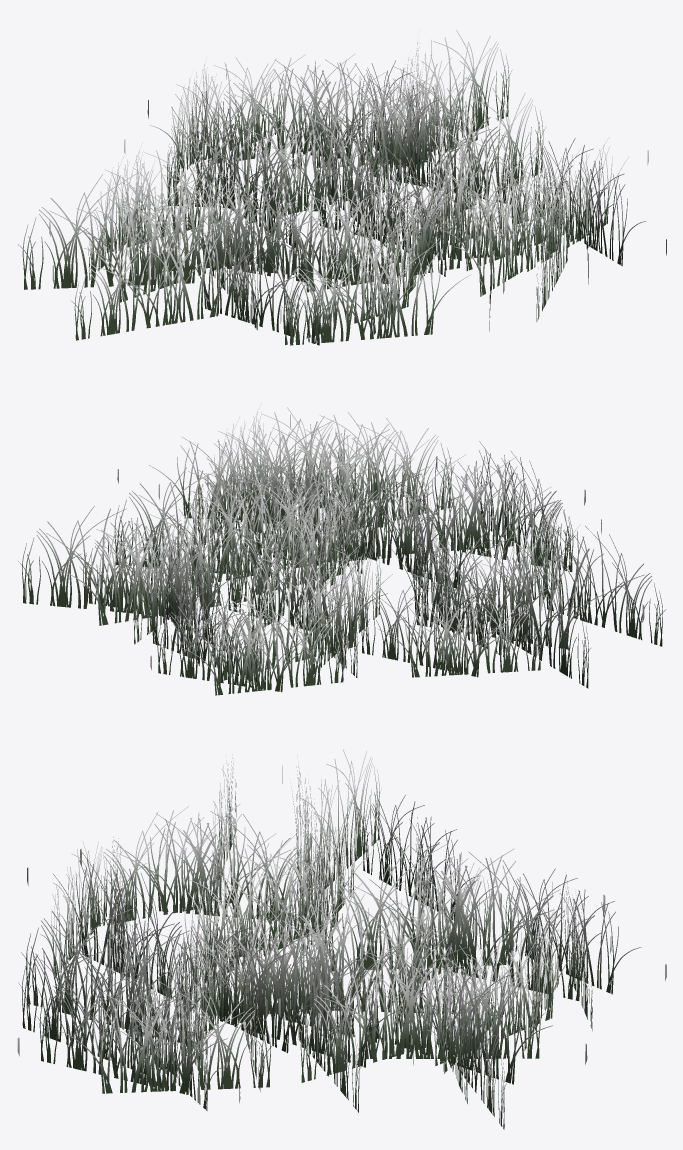
File: Grass_Snow.fbx
The picture shows the model from 3 angles, top to bottom: view 1: azimuth 30°, elevation 25°; view 2: azimuth 150°, elevation 25°; view 3: azimuth 270°, elevation 25°; orthographic projection. The views are drawn at different scales.
Visible parts, largest first — view 1: SM_Grass_Dynamic_01.mo; view 2: SM_Grass_Dynamic_01.mo; view 3: SM_Grass_Dynamic_01.mo.
Boxes of the visible parts, left/top/right/bottom form: SM_Grass_Dynamic_01.mo: left=18, top=30, right=666, bottom=345; SM_Grass_Dynamic_01.mo: left=18, top=403, right=665, bottom=695; SM_Grass_Dynamic_01.mo: left=17, top=749, right=666, bottom=1129.
Bounding box in the file's own units: 254 × 50.94 × 224.
